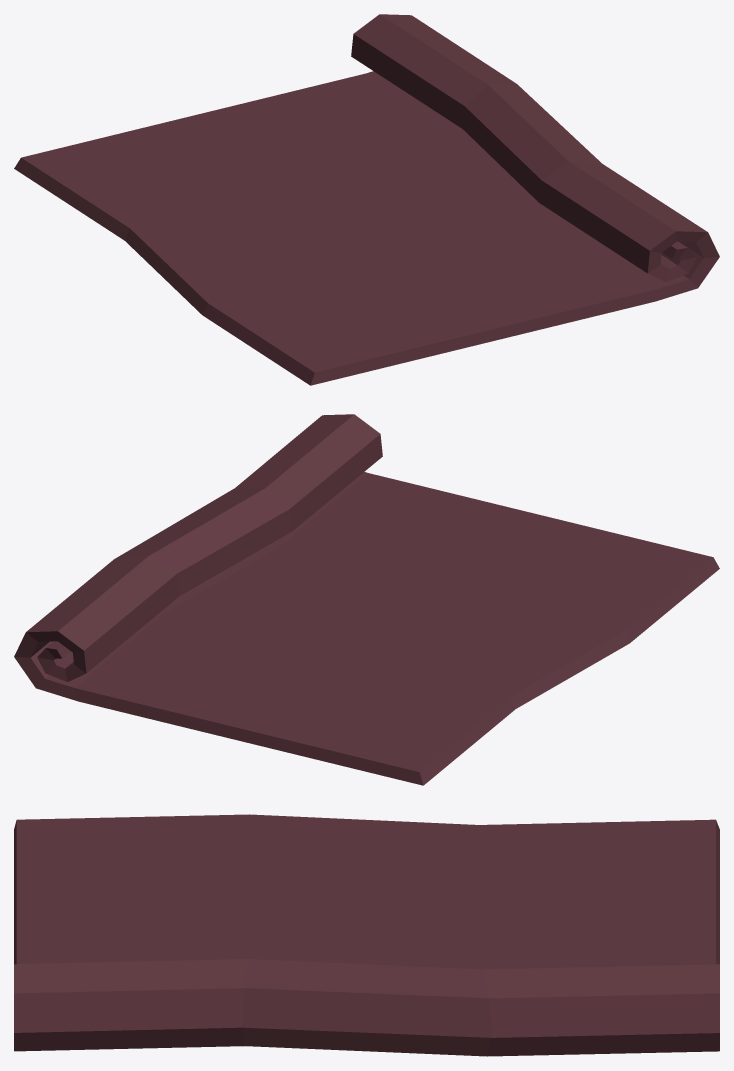
Rendered from egypt-egypt-rug.glb.
3 renders of one model, top to bottom at view 1: azimuth 30°, elevation 25°; view 2: azimuth 150°, elevation 25°; view 3: azimuth 270°, elevation 25°, orthographic. The views are drawn at different scales.
Visible parts, largest first — view 1: egypt-rug; view 2: egypt-rug; view 3: egypt-rug.
Part boxes in pixels (left/top/right/bottom): egypt-rug: left=14, top=14, right=719, bottom=385; egypt-rug: left=14, top=414, right=719, bottom=785; egypt-rug: left=14, top=814, right=719, bottom=1056.
Bounding box in the file's own units: 1.42 × 0.2079 × 1.71.
